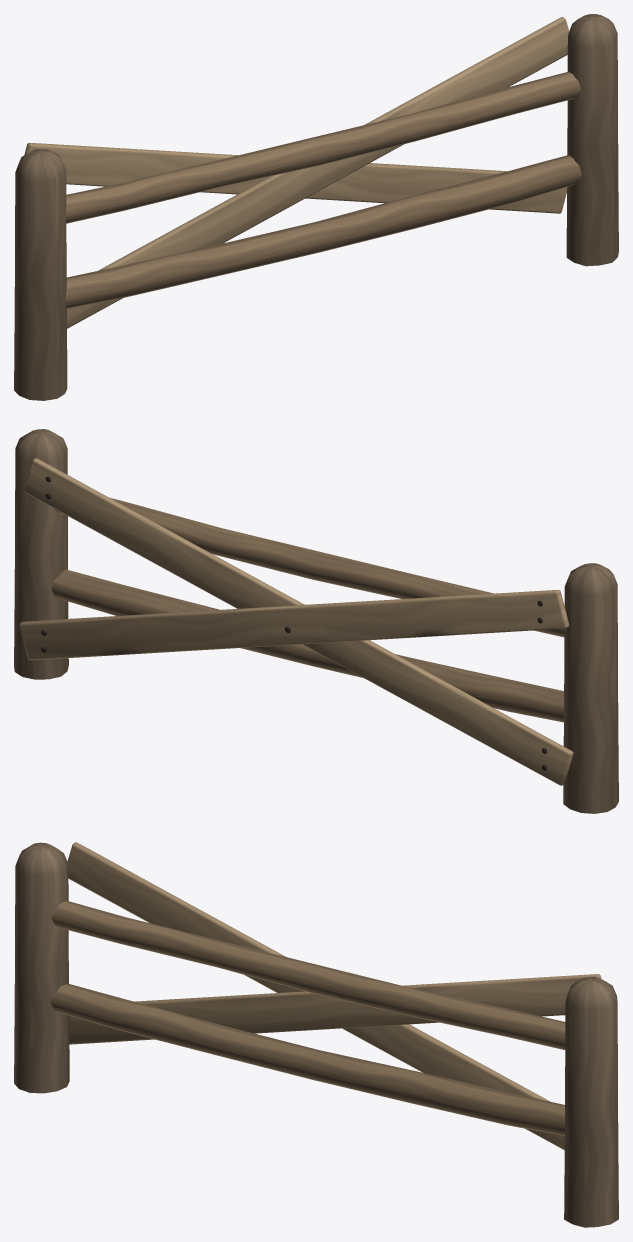
File: museum-door-fence.glb
3 renders of one model, top to bottom at view 1: azimuth 30°, elevation 25°; view 2: azimuth 150°, elevation 25°; view 3: azimuth 330°, elevation 25°, orthographic.
Visible parts, largest first — view 1: museum-door-fence; view 2: museum-door-fence; view 3: museum-door-fence.
Part boxes in pixels (x1,y1,x2,y2): museum-door-fence: (14, 14, 618, 400); museum-door-fence: (14, 429, 618, 813); museum-door-fence: (14, 842, 618, 1227).
Bounding box in the file's own units: 2.21 × 0.838 × 0.2773.
1 material, 1 textured.
